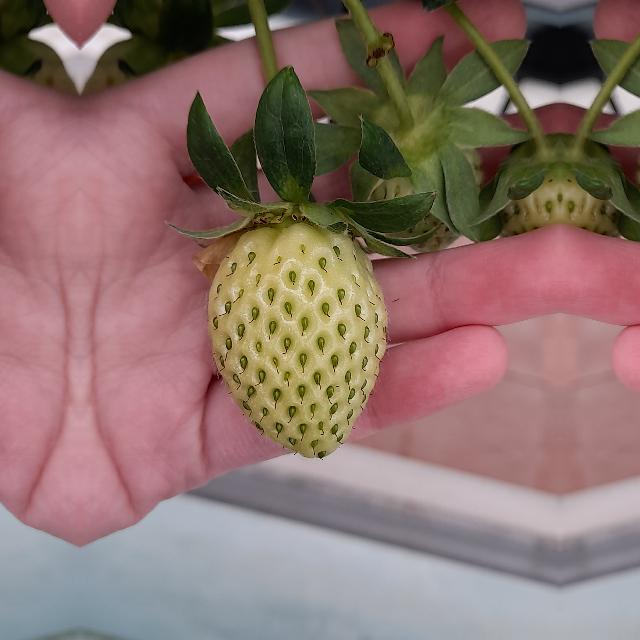Health_25: (208, 222, 386, 458)
